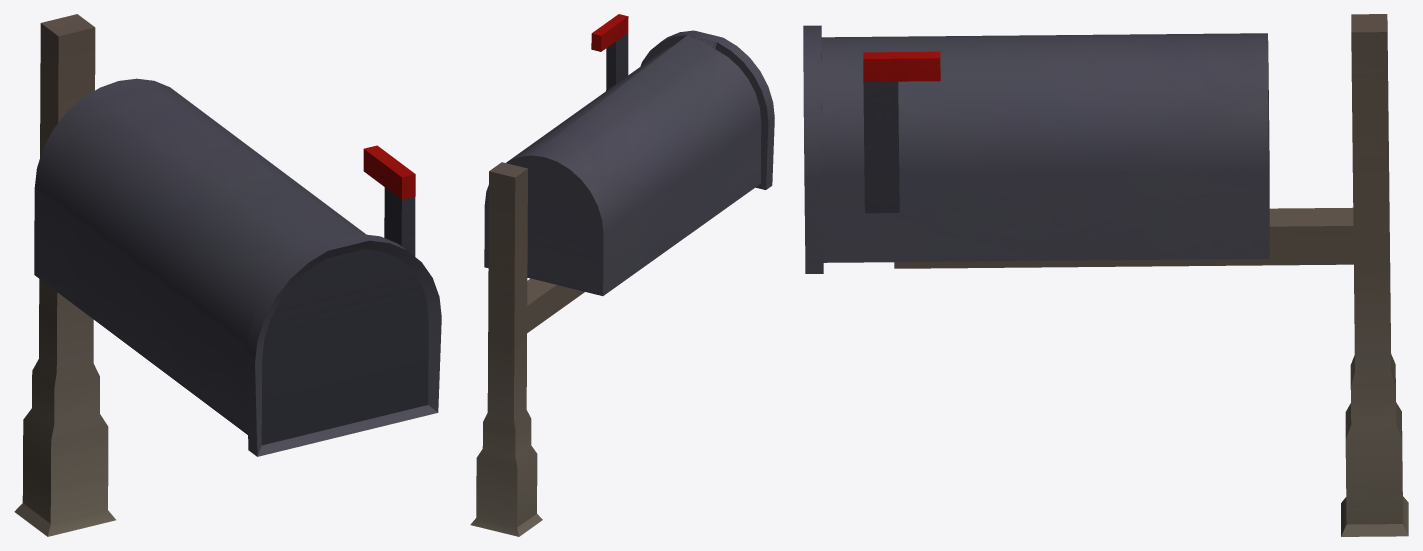
The model's file is SM_Quest_Mailbox.fbx.
3 renders of one model, left to right at view 1: azimuth 30°, elevation 25°; view 2: azimuth 150°, elevation 25°; view 3: azimuth 270°, elevation 25°, orthographic. The views are drawn at different scales.
Visible parts, largest first — view 1: Cube.004; view 2: Cube.004; view 3: Cube.004.
Boxes of the visible parts, x1=… form: Cube.004: x1=14, y1=14, x2=441, y2=536; Cube.004: x1=470, y1=14, x2=774, y2=536; Cube.004: x1=803, y1=14, x2=1408, y2=536.
Size of the model in its own units: 228 by 580 by 625.
1 material, 1 textured.
